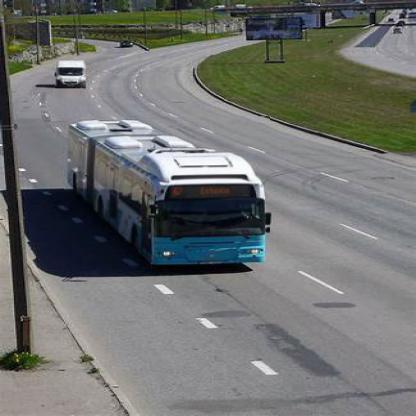bus: (65, 117, 272, 264)
car: (56, 62, 88, 91)
